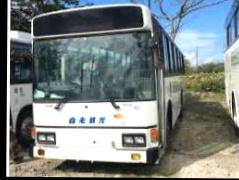bus: (25, 0, 186, 172)
